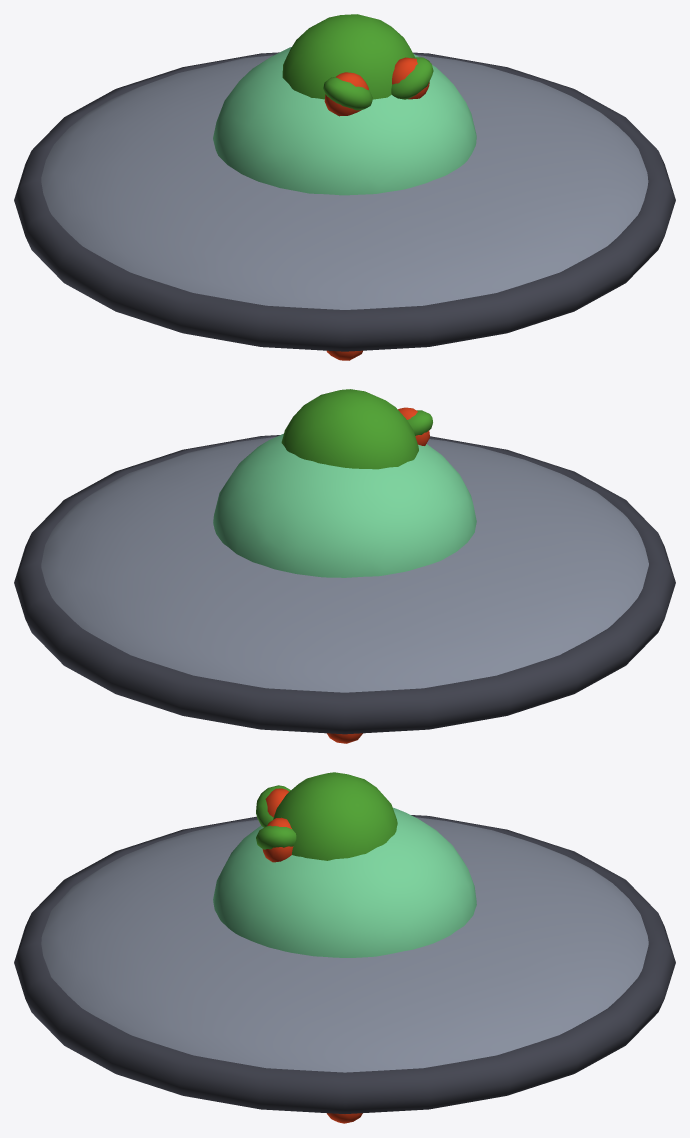
File: KuhUfo.fbx
3 views of the same model, one above another, from view 1: azimuth 30°, elevation 25°; view 2: azimuth 150°, elevation 25°; view 3: azimuth 270°, elevation 25° (orthographic).
Parts seen in each view (by area): view 1: KuhUfo; view 2: KuhUfo; view 3: KuhUfo.
Part boxes in pixels (x1,y1,x2,y2): KuhUfo: (14, 14, 675, 360); KuhUfo: (14, 389, 675, 743); KuhUfo: (14, 772, 675, 1123).
Size of the model in its own units: 1.33 by 0.717 by 1.33.
